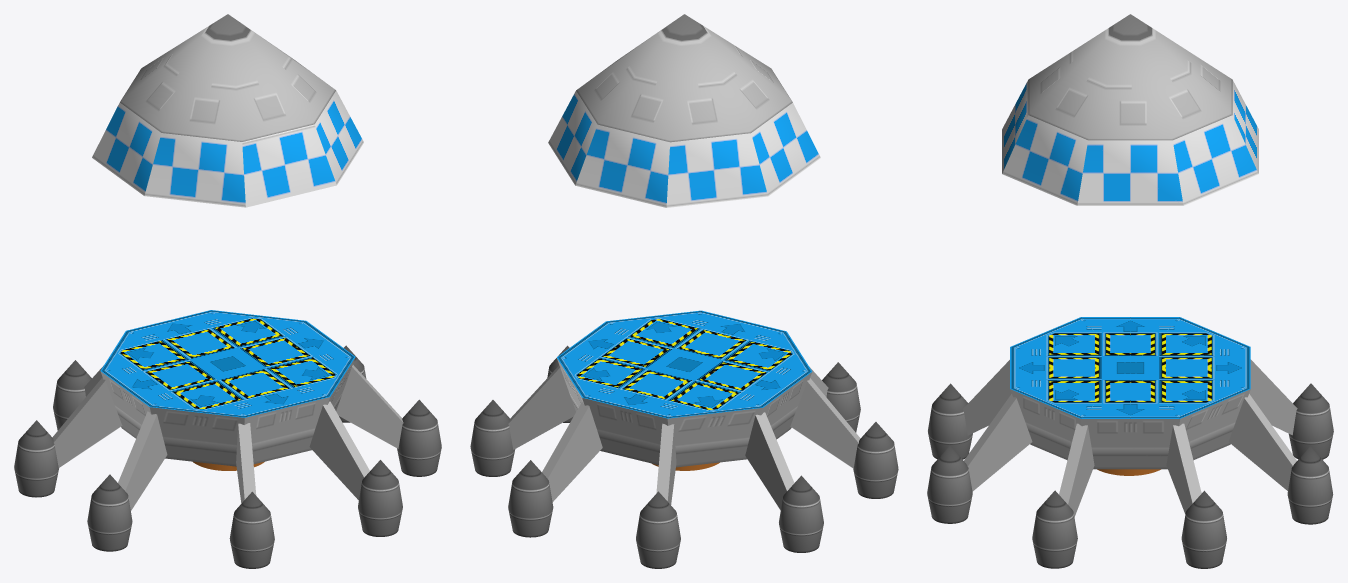
3 renders of one model, left to right at view 1: azimuth 30°, elevation 25°; view 2: azimuth 150°, elevation 25°; view 3: azimuth 270°, elevation 25°, orthographic.
Visible parts, largest first — view 1: Rocket_Down_ColobotMesh_, Rocket_Up_ColobotMesh_.003, Side_engines_ColobotMesh_.002; view 2: Rocket_Down_ColobotMesh_, Rocket_Up_ColobotMesh_.003, Side_engines_ColobotMesh_.002; view 3: Rocket_Down_ColobotMesh_, Rocket_Up_ColobotMesh_.003, Side_engines_ColobotMesh_.002.
Boxes of the visible parts, <box> form: Rocket_Down_ColobotMesh_: <box>52,310,403,510</box>; Rocket_Up_ColobotMesh_.003: <box>92,14,363,207</box>; Side_engines_ColobotMesh_.002: <box>14,345,441,568</box>; Rocket_Down_ColobotMesh_: <box>508,310,860,510</box>; Rocket_Up_ColobotMesh_.003: <box>548,14,820,207</box>; Side_engines_ColobotMesh_.002: <box>470,345,898,568</box>; Rocket_Down_ColobotMesh_: <box>962,317,1297,516</box>; Rocket_Up_ColobotMesh_.003: <box>1002,14,1258,205</box>; Side_engines_ColobotMesh_.002: <box>927,383,1333,568</box>.
Size of the model in its own units: 93.68 by 120 by 93.68.
